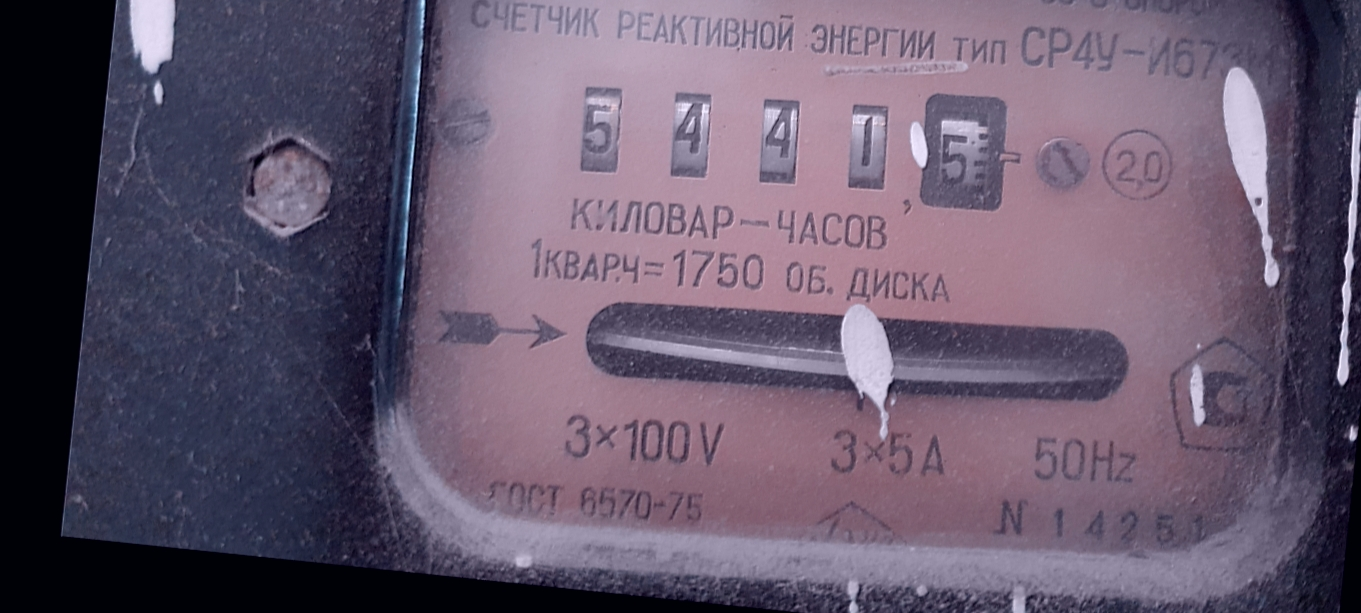1: (853, 112, 882, 172)
4: (758, 98, 802, 167), (670, 95, 712, 159)
5: (935, 127, 976, 193), (578, 99, 622, 159)
screen: (551, 31, 1039, 245)
